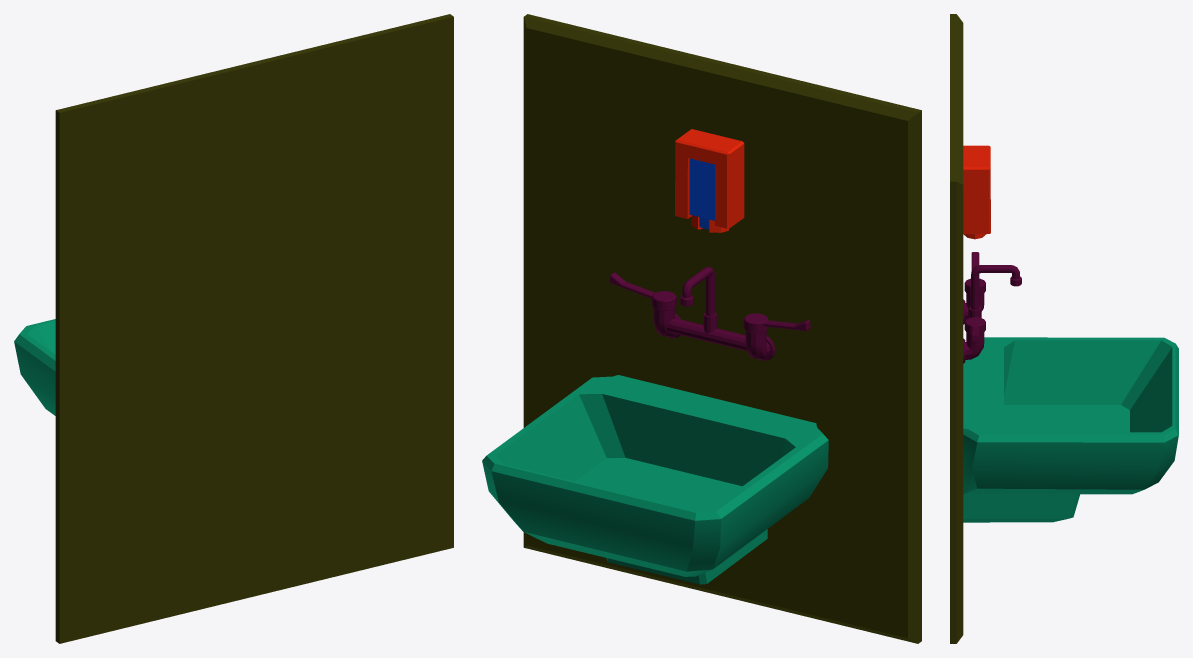
Rendered from Sink.fbx.
3 views of the same model, side by side, from view 1: azimuth 30°, elevation 25°; view 2: azimuth 150°, elevation 25°; view 3: azimuth 270°, elevation 25° (orthographic). The views are drawn at different scales.
Visible parts, largest first — view 1: Sink; view 2: Sink; view 3: Sink.
Boxes of the visible parts, x1,y1,x2,y2 form: Sink: [14, 14, 453, 643]; Sink: [482, 14, 921, 643]; Sink: [950, 14, 1178, 643].
Bounding box in the file's own units: 1 × 1.29 × 0.5771.
